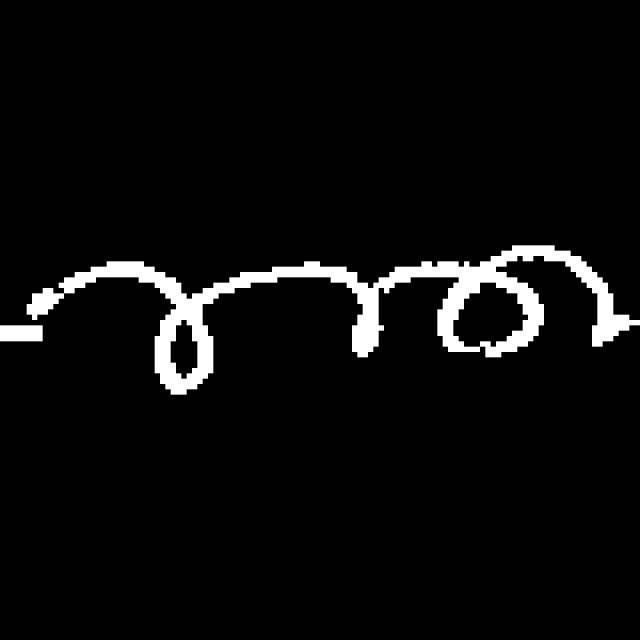inductor: (18, 231, 632, 415)
